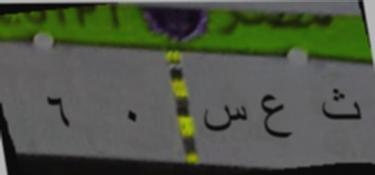0: (42, 90, 74, 134), (122, 100, 144, 130)
ain: (258, 89, 296, 143)
seen: (204, 101, 248, 138)
thaa: (314, 84, 364, 130)
